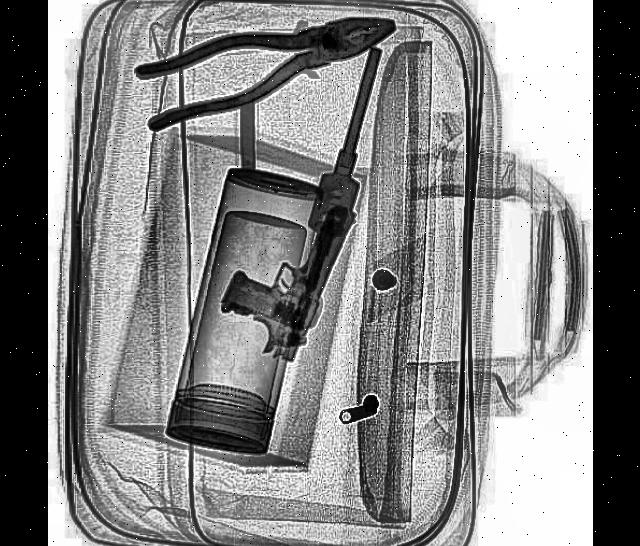Gun: (211, 156, 357, 372)
Pliers: (130, 0, 399, 136)
